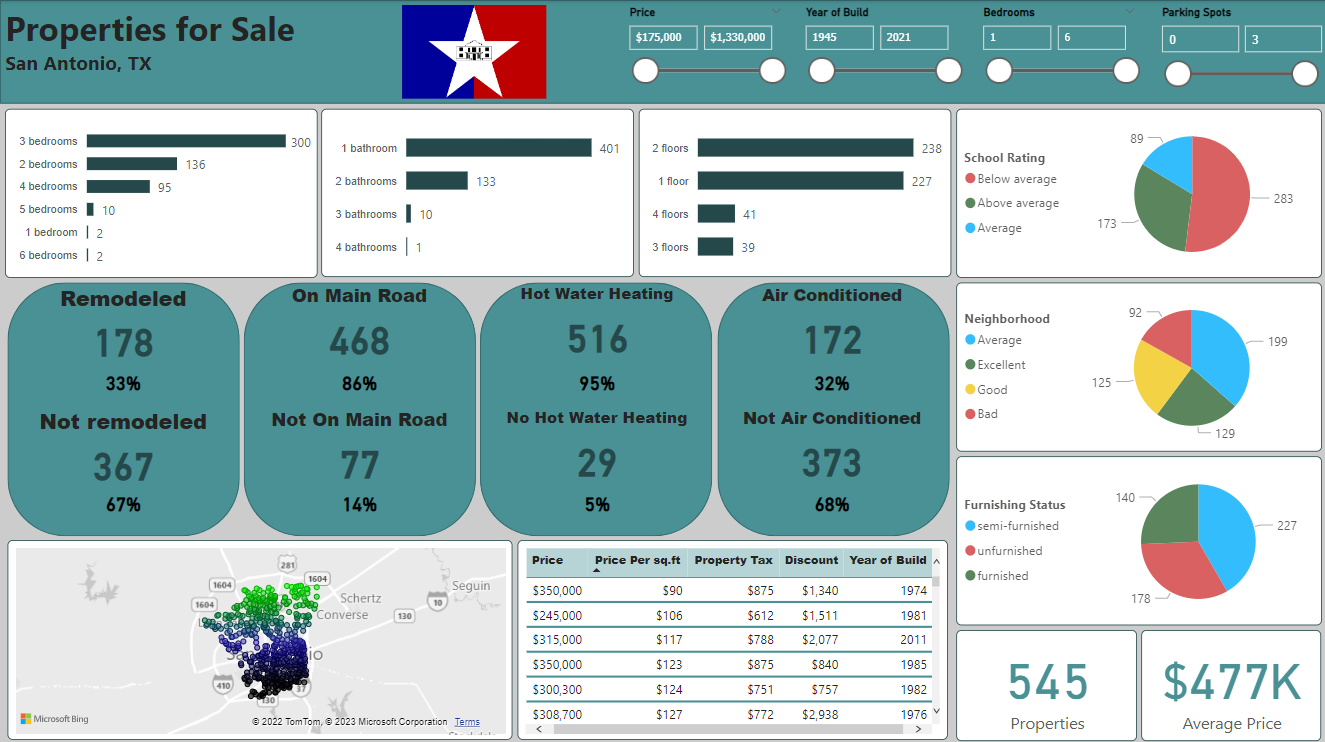

This screenshot's page, from the dashboard's own definition file:
{"tool":"powerbi","page":{"name":"Overview","canvas":[1280,720],"ordinal":0},"visuals":[{"type":"shape","box":[0,0,1280.4,100.2],"z":0},{"type":"slicer","fields":{"Values":["Housing.Bedrooms"]},"box":[936.4,0,172,100.2],"z":1000},{"type":"slicer","fields":{"Values":["Housing.Parking"]},"box":[1108.4,0,172,100.2],"z":2000},{"type":"textbox","box":[0,0,305.9,100.2],"z":3000},{"type":"clusteredBarChart","fields":{"Category":["Bedrooms_dim.Bedrooms"],"Y":["CountNonNull(Housing.Property ID)"]},"box":[4.4,104.7,301.5,163.2],"z":4000},{"type":"clusteredBarChart","fields":{"Y":["CountNonNull(Housing.Property ID)"],"Category":["Bathrooms_dim.Bathrooms"]},"box":[310,105,301.2,162.5],"z":5000},{"type":"clusteredBarChart","fields":{"Y":["CountNonNull(Housing.Property ID)"],"Category":["Stories_dim.Stories"]},"box":[616.2,105,301.2,162.5],"z":6000},{"type":"pieChart","fields":{"Category":["School Rating_dim.School Rating (groups)"],"Y":["CountNonNull(Housing.Property ID)"]},"box":[923.1,104.7,352.9,163.2],"z":7000},{"type":"pieChart","fields":{"Category":["Neighborhood_dim.Neighborhood"],"Y":["CountNonNull(Housing.Property ID)"]},"box":[923.1,272.3,352.9,163.2],"z":8000},{"type":"image","box":[380.4,0,155.2,100.2],"z":9000},{"type":"pieChart","fields":{"Y":["CountNonNull(Housing.Property ID)"],"Category":["Housing.Furnishing Status"]},"box":[923.1,439.8,352.9,163.2],"z":10000},{"type":"card","fields":{"Values":["1_Measures.total properties"]},"box":[923.1,607.4,174,107.3],"z":11000},{"type":"card","fields":{"Values":["Avg(Housing.Price)"]},"box":[1101.3,607.4,173.8,107.3],"z":12000},{"type":"tableEx","title":"Hot Water Heating","fields":{"Values":["Housing.Price","Housing.PricePerSqf","Housing.Property Tax","Sum(Housing.DiscountToBuyer)","Housing.Year of Build"]},"box":[499.6,521.6,415.3,193.2],"z":13000},{"type":"slicer","fields":{"Values":["Year_dim.Year of Build"]},"box":[764.3,0,172,100.2],"z":14000},{"type":"slicer","fields":{"Values":["Housing.Price"]},"box":[595,0,172,100.2],"z":15000},{"type":"shape","box":[7,272.2,223.9,245],"z":17000},{"type":"shape","box":[235.3,272.2,223.9,245],"z":18000},{"type":"map","title":"Hot Water Heating","fields":{"Y":["Housing.lat"],"X":["Housing.lon"]},"box":[7,521.6,487.3,193.2],"z":18500},{"type":"shape","box":[463.6,272.2,223.9,245],"z":19000},{"type":"shape","box":[691.9,272.2,223.9,245],"z":20000},{"type":"card","title":"Remodeled","fields":{"Values":["1_Measures.remodeled"]},"box":[25.5,273.1,187,80.8],"z":21000},{"type":"card","title":"Remodeled","fields":{"Values":["1_Measures.% remodeled"]},"box":[25.5,346.8,187,44.8],"z":22000},{"type":"card","title":"Remodeled","fields":{"Values":["1_Measures.% not remodeled"]},"box":[25.5,464.5,187,44.8],"z":23000},{"type":"card","title":"Not remodeled","fields":{"Values":["1_Measures.not remodeled"]},"box":[25.5,391.5,187,80.8],"z":24000},{"type":"card","title":"On Main Road","fields":{"Values":["1_Measures.onMainRoad"]},"box":[253.8,273.1,187,80.8],"z":25000},{"type":"card","title":"Hot Water Heating","fields":{"Values":["1_Measures.HotWaterHeat"]},"box":[482,273.1,187,80.8],"z":26000},{"type":"card","title":"Air Conditioned","fields":{"Values":["1_Measures.AirConditioned"]},"box":[709.5,273.1,187,80.8],"z":27000},{"type":"card","title":"Remodeled","fields":{"Values":["1_Measures.% onMainRoad"]},"box":[253.8,346.8,187,44.8],"z":28000},{"type":"card","title":"Remodeled","fields":{"Values":["1_Measures.% HotWaterHeat"]},"box":[482,346.8,187,44.8],"z":29000},{"type":"card","title":"Remodeled","fields":{"Values":["1_Measures.% AirConditioned"]},"box":[709.5,346.8,187,44.8],"z":30000},{"type":"card","title":"Not On Main Road","fields":{"Values":["1_Measures.NotOnMainRoad"]},"box":[253.8,391.6,187,80.8],"z":31000},{"type":"card","title":"No Hot Water Heating","fields":{"Values":["1_Measures.NoHotWaterHeat"]},"box":[482,391.6,187,80.8],"z":32000},{"type":"card","title":"Not Air Conditioned","fields":{"Values":["1_Measures.NotAirConditioned"]},"box":[709.5,391.6,187,80.8],"z":33000},{"type":"card","title":"Remodeled","fields":{"Values":["1_Measures.% NotonMainRoad"]},"box":[253.8,464.5,187,44.8],"z":34000},{"type":"card","title":"Remodeled","fields":{"Values":["1_Measures.% NoHotWaterHeat"]},"box":[482,464.5,187,44.8],"z":35000},{"type":"card","title":"Remodeled","fields":{"Values":["1_Measures.% NotAirConditioned"]},"box":[709.5,464.5,187,44.8],"z":36000}]}

Visuals, with their boxes in screenshot pixels (x1, y1, x2, y2), scaled from the page's 1280x720 canvas onto the 1325x742 screenshot:
shape: [0, 0, 1324, 103]
slicer - Housing.Bedrooms: [969, 0, 1147, 103]
slicer - Housing.Parking: [1147, 0, 1324, 103]
textbox: [0, 0, 317, 103]
clusteredBarChart - Bedrooms_dim.Bedrooms x CountNonNull(Housing.Property ID): [5, 108, 317, 276]
clusteredBarChart - CountNonNull(Housing.Property ID) x Bathrooms_dim.Bathrooms: [321, 108, 633, 276]
clusteredBarChart - CountNonNull(Housing.Property ID) x Stories_dim.Stories: [638, 108, 950, 276]
pieChart - School Rating_dim.School Rating (groups) x CountNonNull(Housing.Property ID): [956, 108, 1321, 276]
pieChart - Neighborhood_dim.Neighborhood x CountNonNull(Housing.Property ID): [956, 281, 1321, 449]
image: [394, 0, 554, 103]
pieChart - CountNonNull(Housing.Property ID) x Housing.Furnishing Status: [956, 453, 1321, 621]
card - 1_Measures.total properties: [956, 626, 1136, 737]
card - Avg(Housing.Price): [1140, 626, 1320, 737]
"Hot Water Heating" tableEx: [517, 538, 947, 737]
slicer - Year_dim.Year of Build: [791, 0, 969, 103]
slicer - Housing.Price: [616, 0, 794, 103]
shape: [7, 281, 239, 533]
shape: [244, 281, 475, 533]
"Hot Water Heating" map: [7, 538, 512, 737]
shape: [480, 281, 712, 533]
shape: [716, 281, 948, 533]
"Remodeled" card: [26, 281, 220, 365]
"Remodeled" card: [26, 357, 220, 404]
"Remodeled" card: [26, 479, 220, 525]
"Not remodeled" card: [26, 403, 220, 487]
"On Main Road" card: [263, 281, 456, 365]
"Hot Water Heating" card: [499, 281, 693, 365]
"Air Conditioned" card: [734, 281, 928, 365]
"Remodeled" card: [263, 357, 456, 404]
"Remodeled" card: [499, 357, 693, 404]
"Remodeled" card: [734, 357, 928, 404]
"Not On Main Road" card: [263, 404, 456, 487]
"No Hot Water Heating" card: [499, 404, 693, 487]
"Not Air Conditioned" card: [734, 404, 928, 487]
"Remodeled" card: [263, 479, 456, 525]
"Remodeled" card: [499, 479, 693, 525]
"Remodeled" card: [734, 479, 928, 525]
